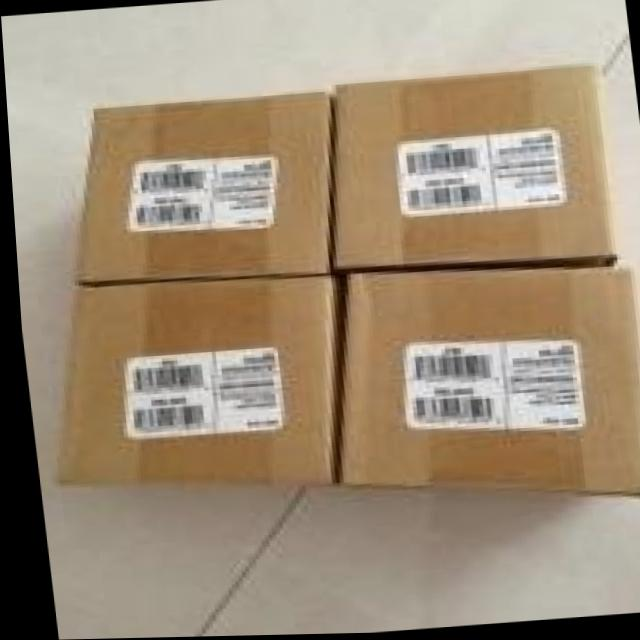box: (330, 272, 640, 499), (49, 277, 338, 486), (329, 71, 615, 273), (76, 89, 335, 288)
